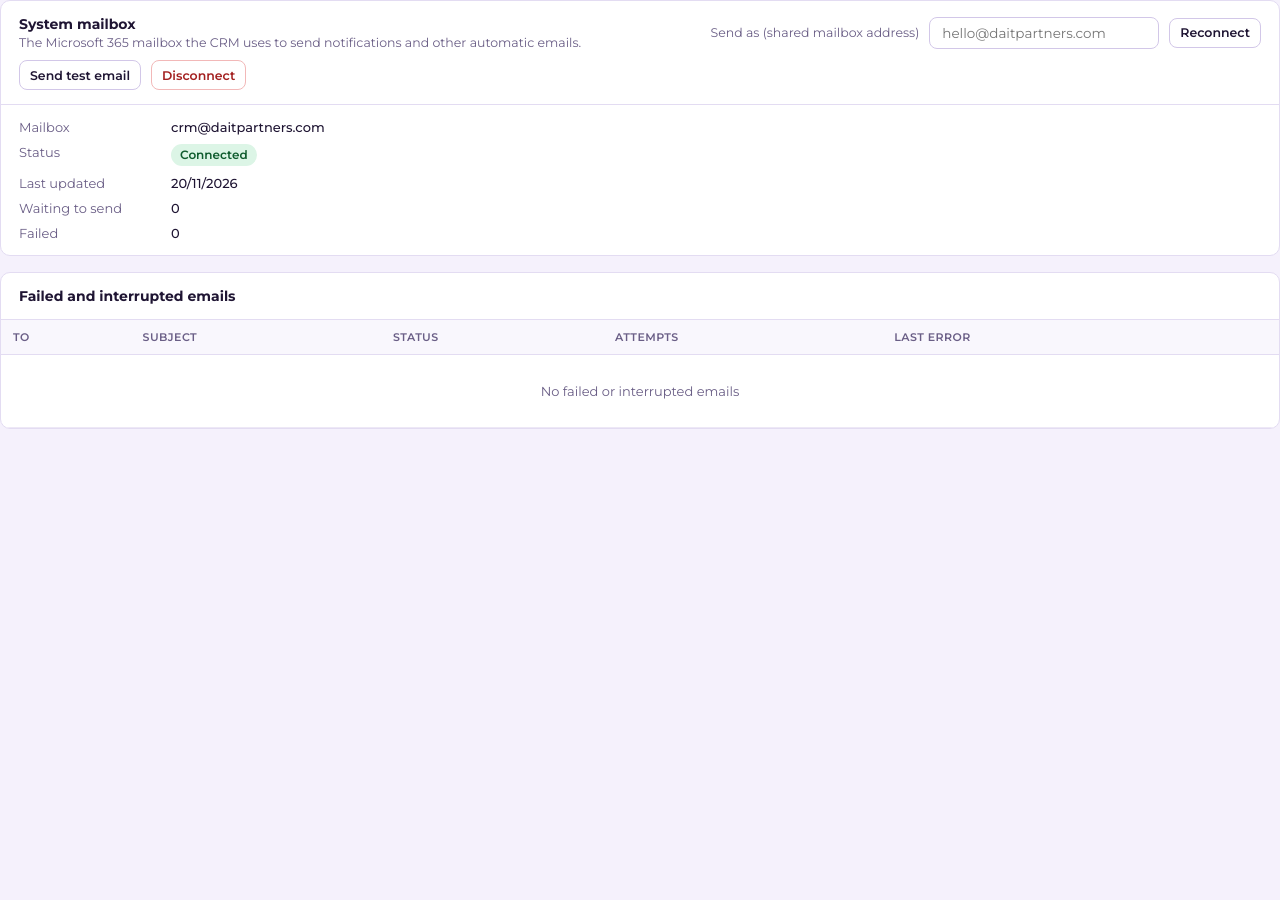
Test: System mailbox page › sends a test email and refreshes the counts
The image size is (1280, 900).
Click the button "Send test email". click: (80, 75)
box: [19,60,141,90]
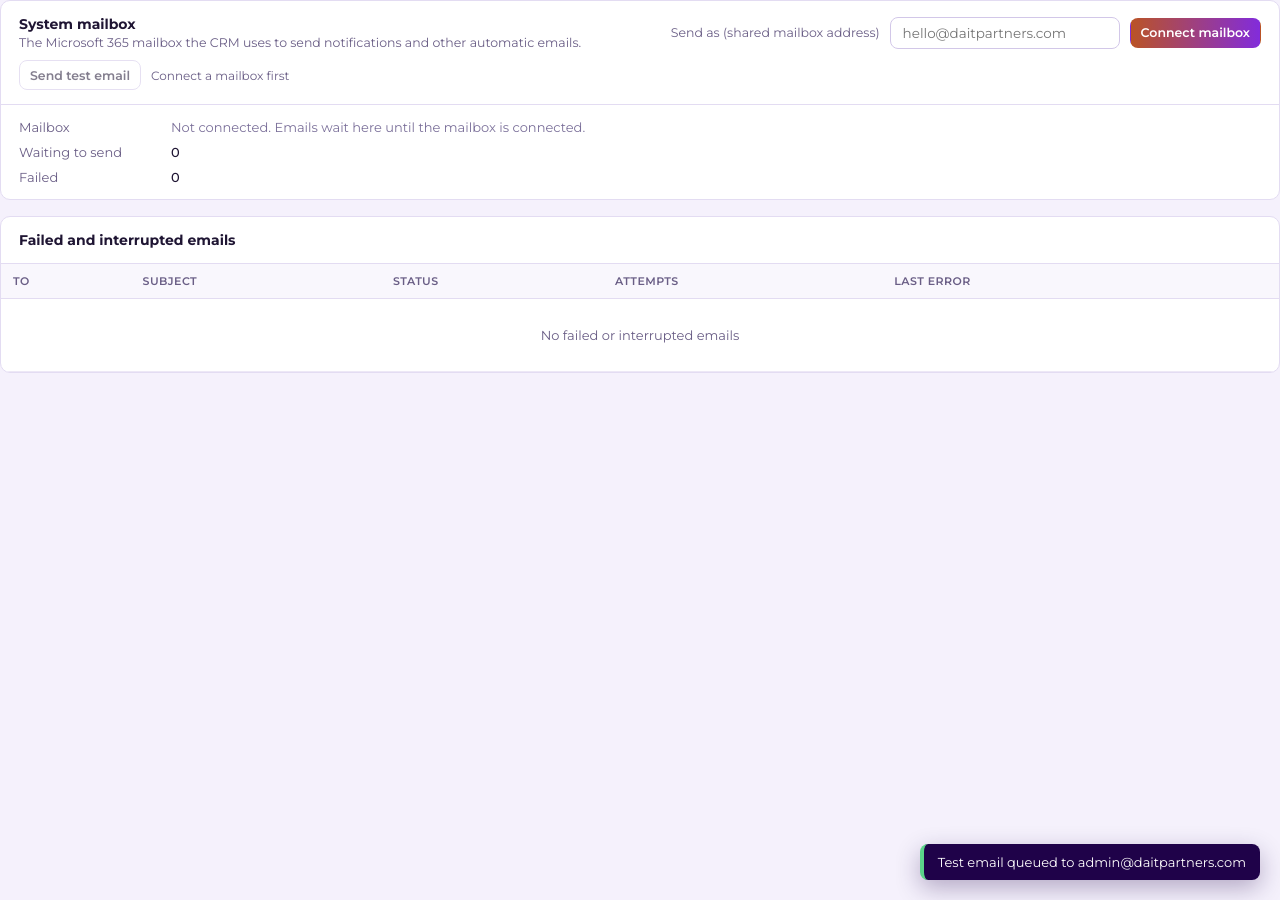
Expected: the text "Test email queued to admin@daitpartners.com" is shown, [920,844,1260,880]
